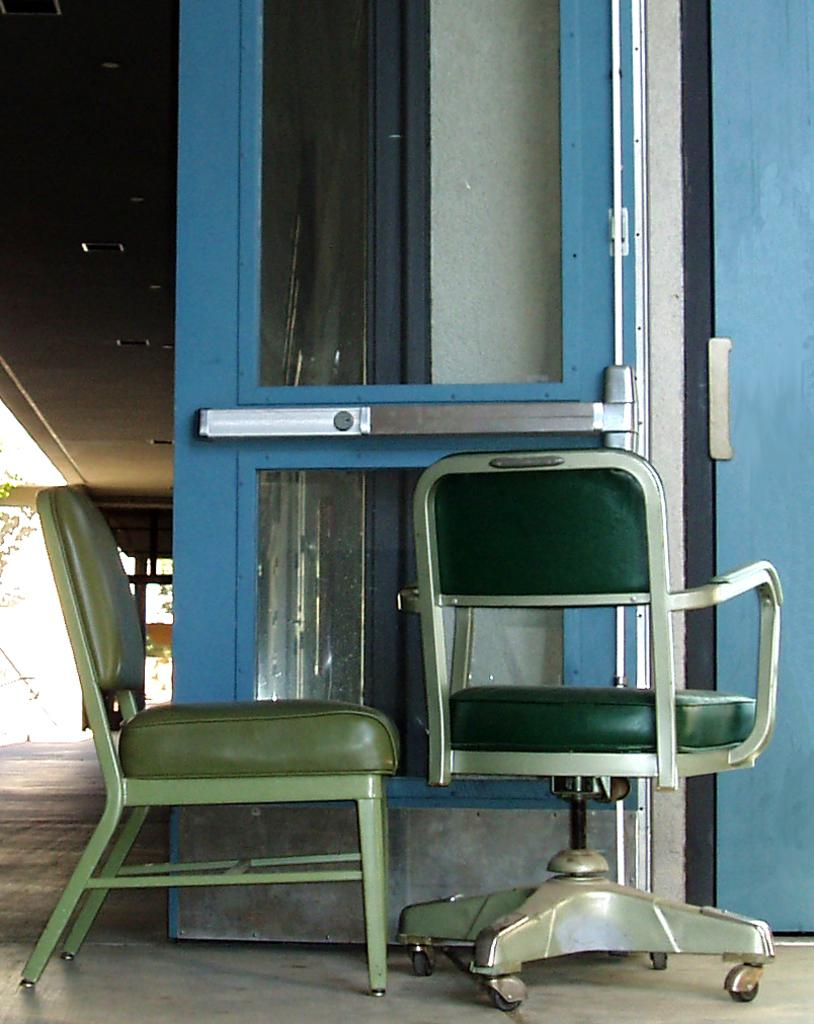Chair: (396, 443, 775, 1012), (24, 488, 384, 995)
